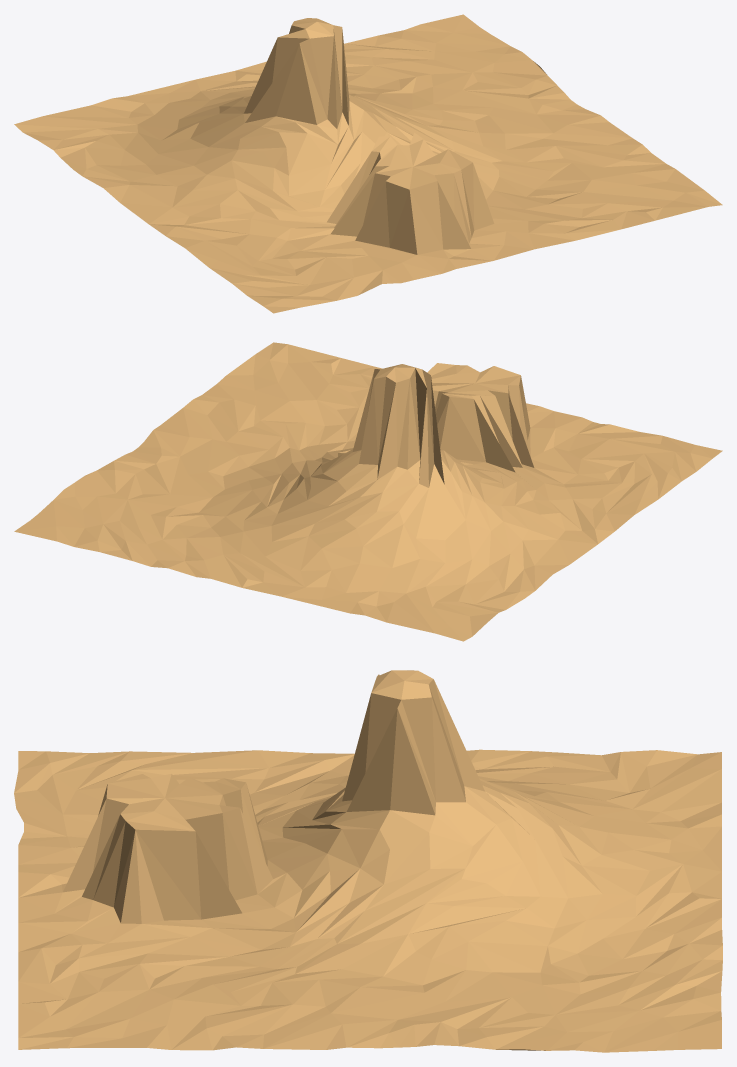
The model's file is landscape.06.fbx.
The picture shows the model from 3 angles, top to bottom: view 1: azimuth 30°, elevation 25°; view 2: azimuth 150°, elevation 25°; view 3: azimuth 270°, elevation 25°; orthographic projection. The views are drawn at different scales.
Visible parts, largest first — view 1: landscape.06; view 2: landscape.06; view 3: landscape.06.
Part boxes in pixels (x1,y1,x2,y2): landscape.06: [14, 14, 722, 313]; landscape.06: [14, 342, 722, 641]; landscape.06: [14, 670, 722, 1052].
Size of the model in its own units: 3407 by 1065 by 3386.
